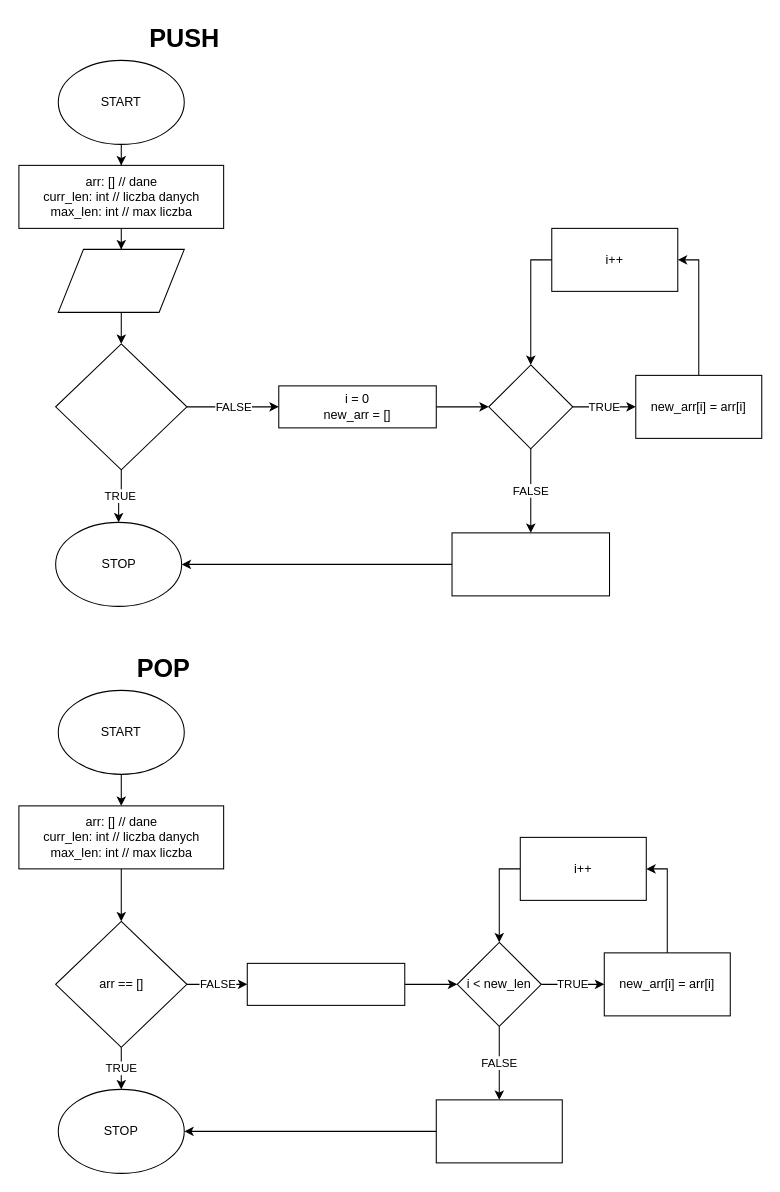
Image size: 780x1192. Some labels were removed from this diagram. The shapes that lost their labels are listed below. From the top down, each one's box as (x1, y1, x2, y2) in pixels, then its label:
(57, 248, 184, 312): Dane
(55, 343, 187, 470): curr_len == max_len
(488, 364, 573, 449): i < curr_len
(451, 532, 610, 596): new_arr[curr_len] = dane arr = new_arr curr_len++
(246, 962, 405, 1005): i = 0 new_len = curr_len - 1
(435, 1099, 562, 1163): arr = new_arr curr_len = new_len
